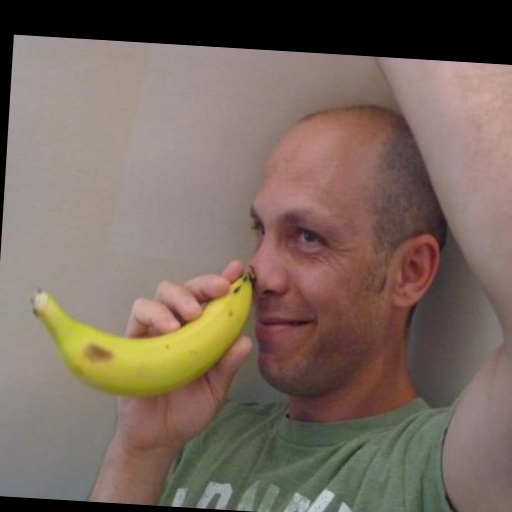fruit: (32, 274, 252, 396)
